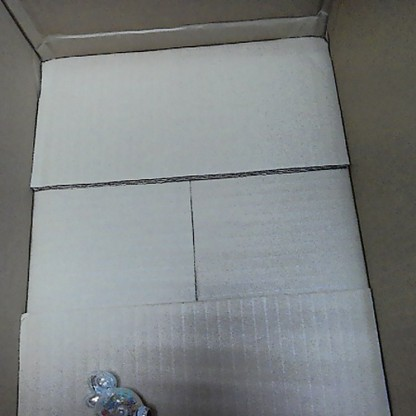whitefish: (83, 366, 158, 414)
